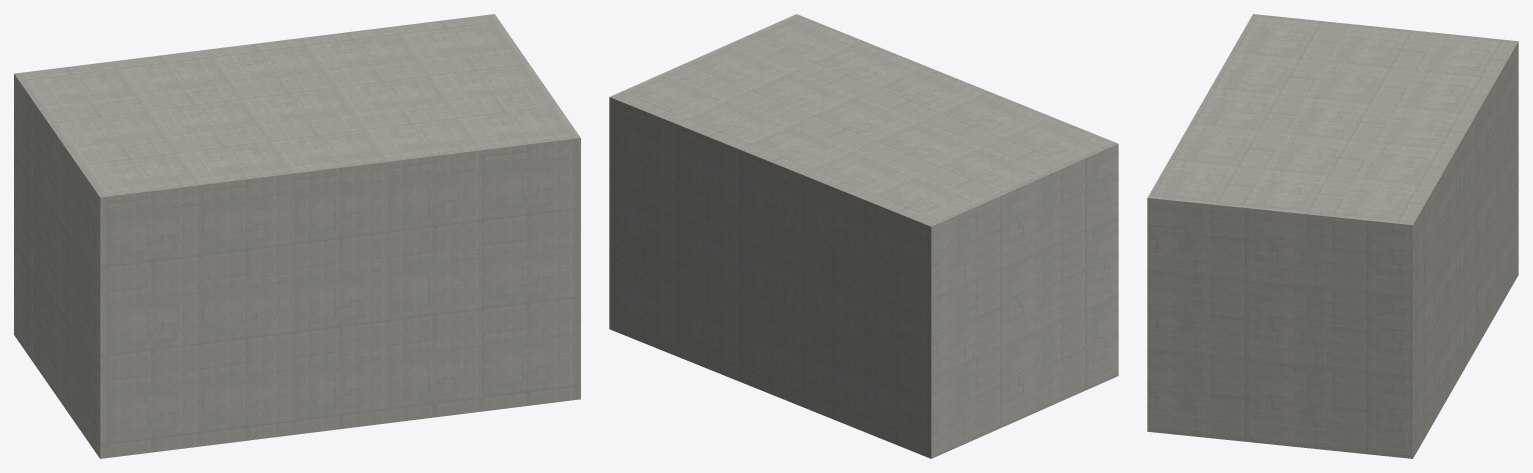
The model's file is kd_stage_1366d7_5_0_bounded.glb.
3 views of the same model, side by side, from view 1: azimuth 30°, elevation 25°; view 2: azimuth 150°, elevation 25°; view 3: azimuth 270°, elevation 25° (orthographic). The views are drawn at different scales.
Parts seen in each view (by area): view 1: kd_stage_1366d7_5_0_bounded; view 2: kd_stage_1366d7_5_0_bounded; view 3: kd_stage_1366d7_5_0_bounded.
Boxes of the visible parts, x1,y1,x2,y2 form: kd_stage_1366d7_5_0_bounded: (14,14,580,458); kd_stage_1366d7_5_0_bounded: (609,14,1118,458); kd_stage_1366d7_5_0_bounded: (1147,14,1518,458).
Size of the model in its own units: 155 by 80.26 by 116.
1 material, 1 textured.
